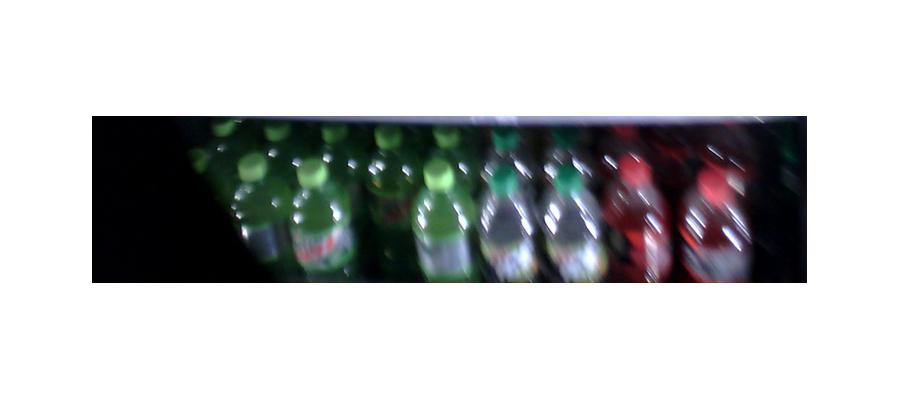bottle: (679, 141, 755, 287), (476, 135, 539, 281), (603, 147, 670, 278), (542, 149, 604, 284), (363, 131, 420, 269), (414, 153, 476, 279), (290, 150, 354, 270), (230, 152, 295, 264)
